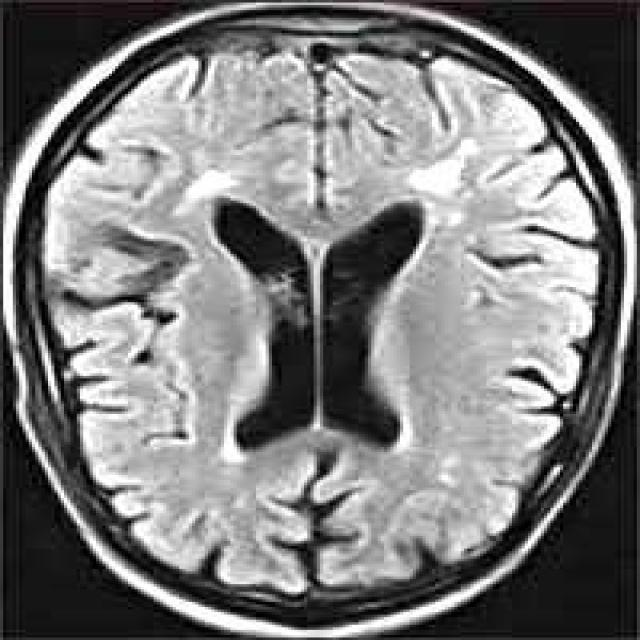notumor: (3, 3, 630, 635)
